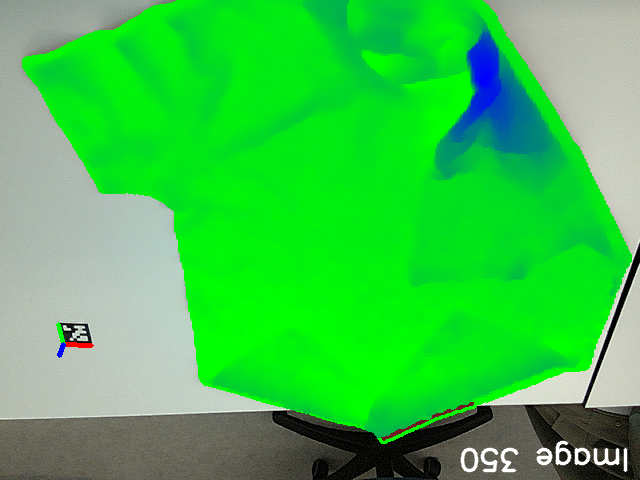V: (267, 319, 322, 359), (402, 242, 442, 293), (445, 300, 485, 337)
